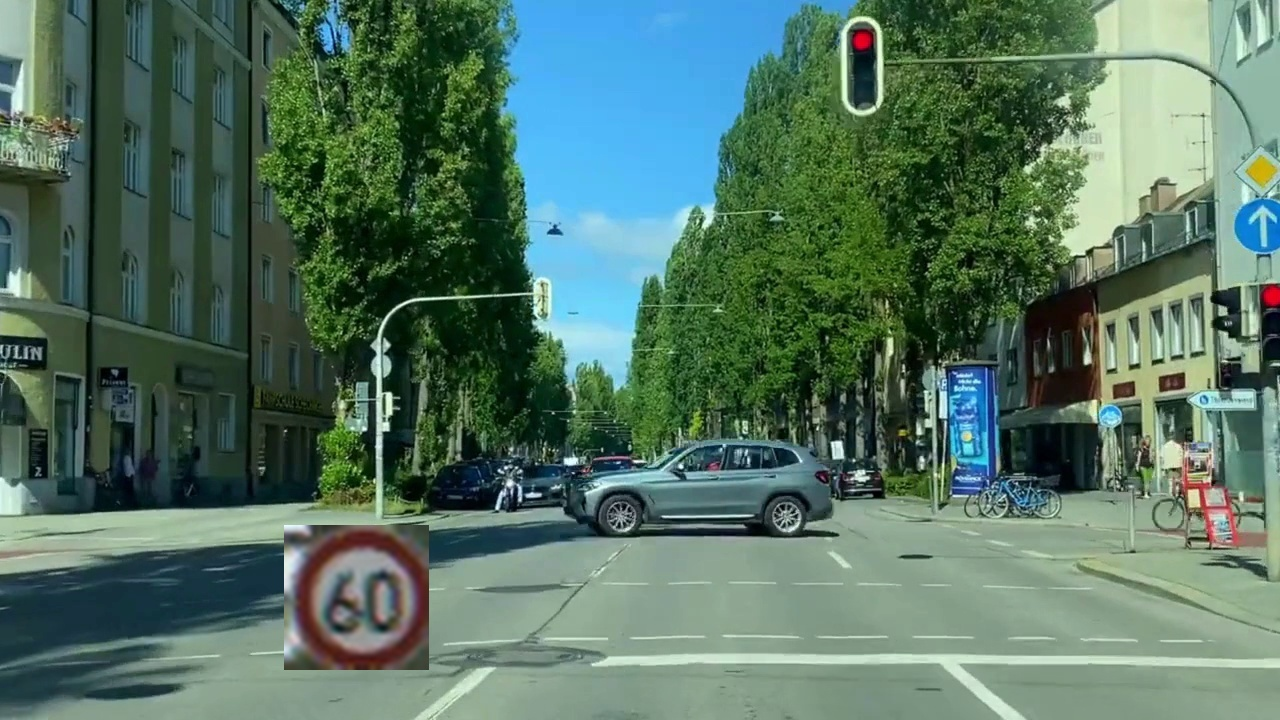Speed 60: (284, 525, 429, 670)
